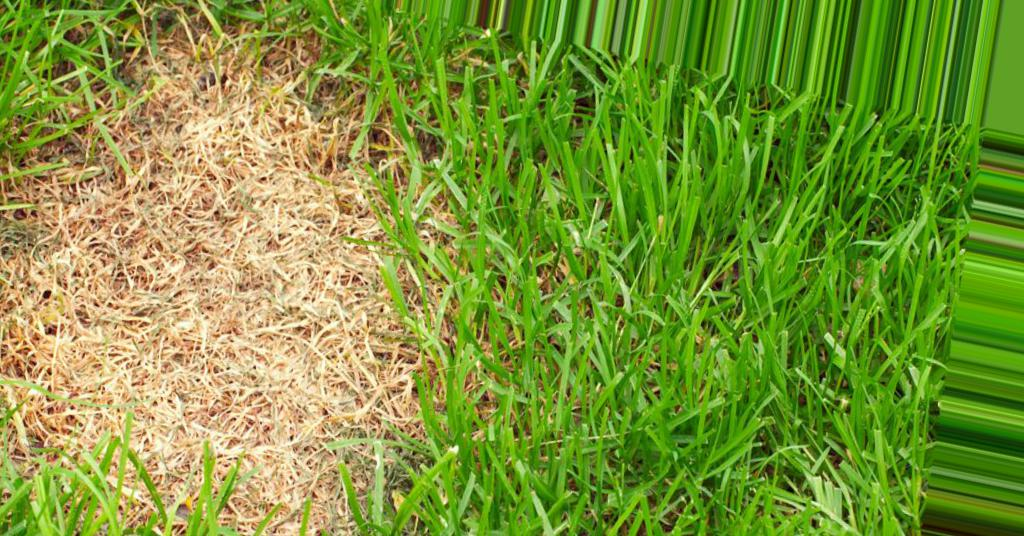patch: (112, 110, 348, 269), (15, 229, 261, 373), (279, 290, 384, 417), (122, 381, 262, 452)
